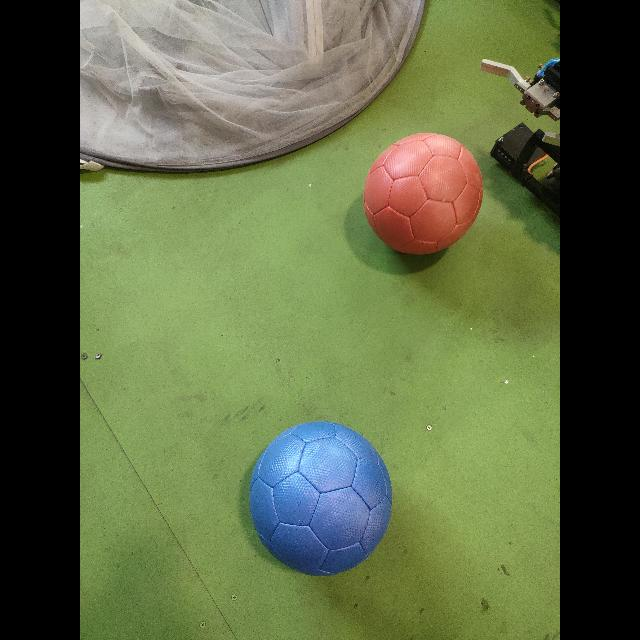B: (250, 421, 391, 576)
R: (364, 132, 482, 254)
